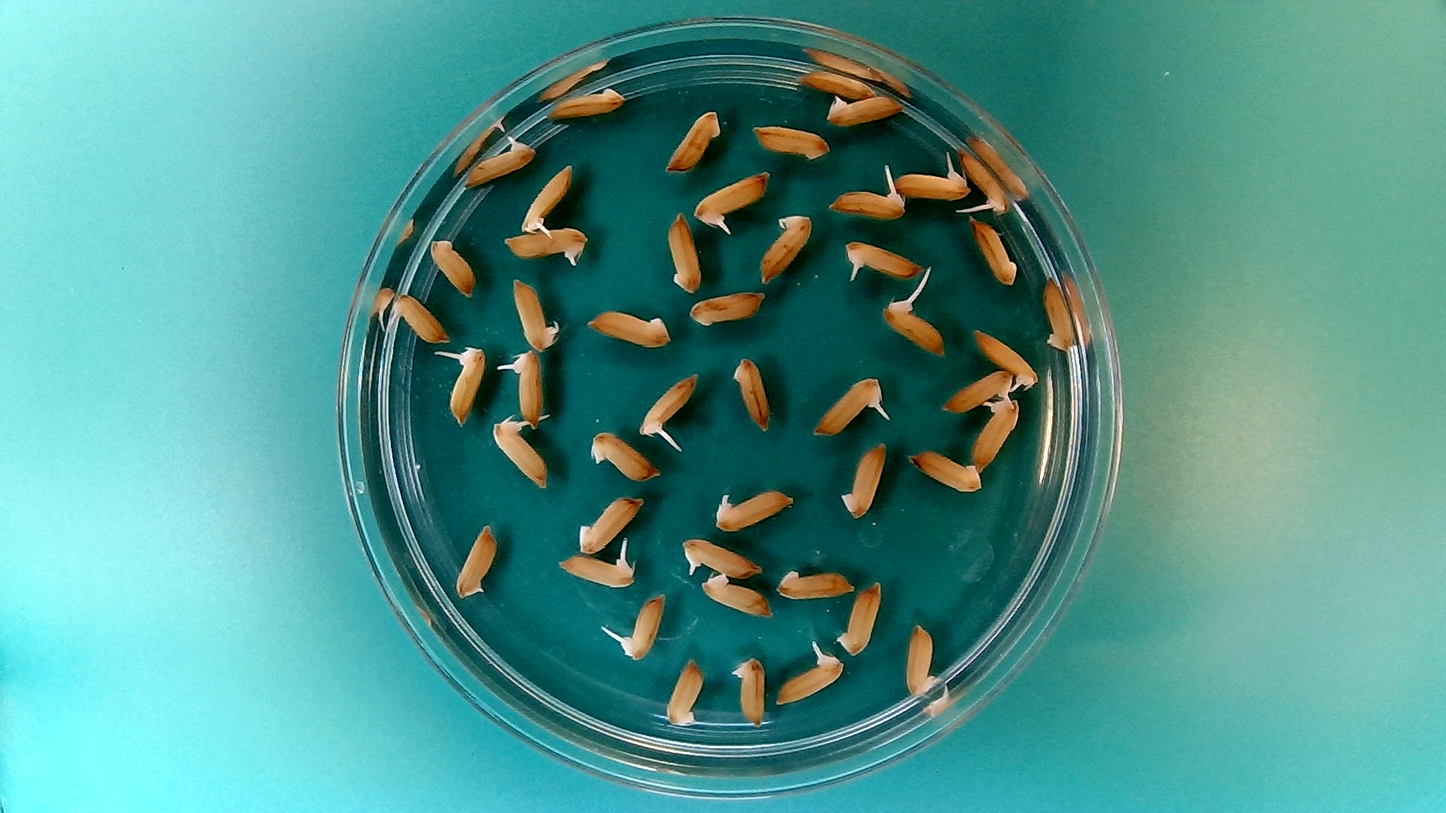no: (574, 491, 647, 556), (837, 439, 889, 522), (586, 427, 660, 483), (584, 305, 674, 351), (453, 517, 501, 601), (695, 571, 779, 618), (834, 578, 884, 656), (968, 215, 1020, 288), (907, 447, 985, 495), (729, 352, 774, 433), (665, 110, 721, 174), (660, 654, 706, 729), (685, 288, 770, 328), (901, 617, 941, 702), (750, 120, 831, 161), (1042, 273, 1081, 358), (665, 208, 703, 294), (545, 83, 629, 121), (428, 233, 477, 298), (822, 90, 906, 126), (775, 565, 859, 601), (730, 651, 768, 728), (799, 66, 877, 99)
yes: (691, 167, 773, 232), (970, 325, 1042, 392), (489, 413, 550, 491), (809, 373, 883, 437), (757, 208, 815, 288), (518, 158, 575, 235), (969, 393, 1023, 471), (711, 485, 798, 533), (511, 274, 563, 353), (641, 373, 702, 437), (678, 534, 764, 579), (772, 650, 840, 706), (880, 300, 948, 354), (941, 367, 1017, 415), (501, 227, 589, 267), (386, 291, 450, 345), (549, 549, 639, 587), (461, 137, 529, 186), (504, 346, 545, 427), (959, 153, 1009, 216), (622, 594, 667, 660), (846, 241, 920, 279), (827, 187, 909, 220), (450, 346, 484, 424), (897, 169, 971, 199)
